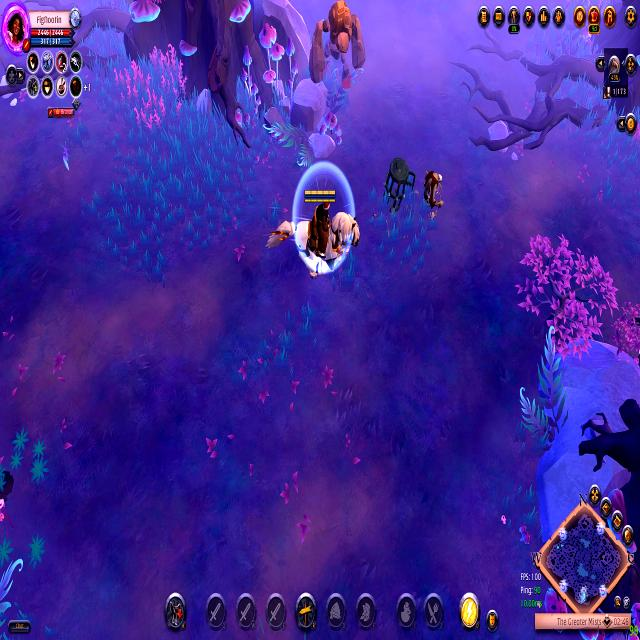ore: (306, 0, 367, 102), (412, 161, 451, 232)
red: (269, 180, 361, 288)
